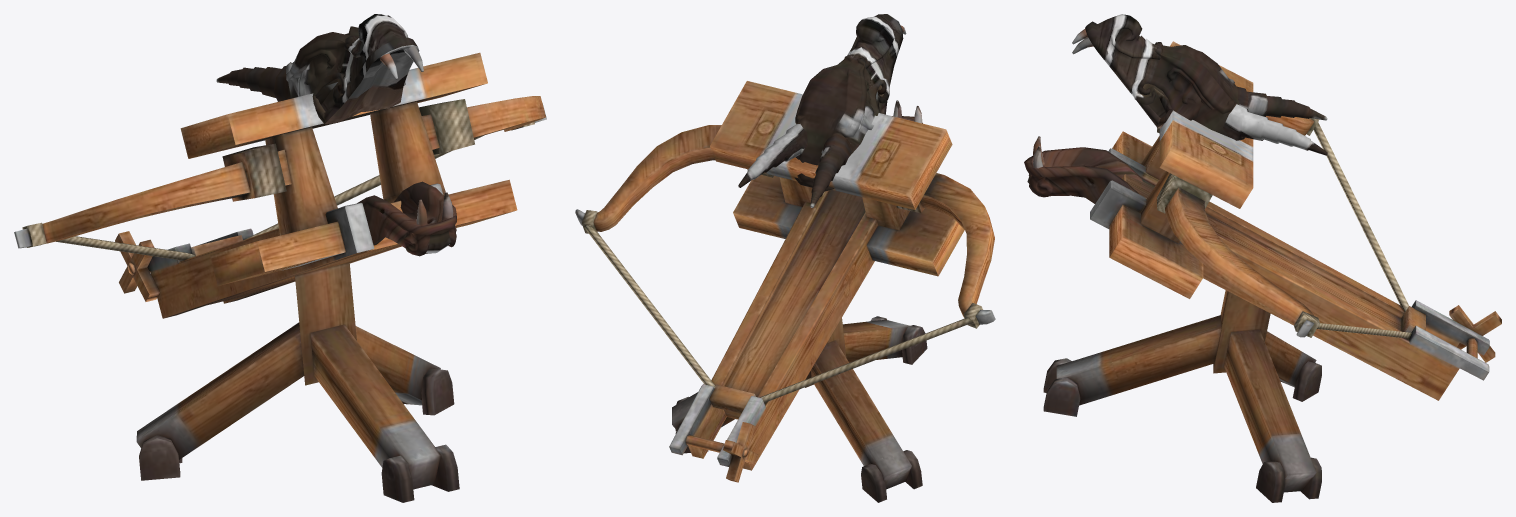
Rendered from weapon-ironweapons.glb.
3 renders of one model, left to right at view 1: azimuth 30°, elevation 25°; view 2: azimuth 150°, elevation 25°; view 3: azimuth 270°, elevation 25°, orthographic. The views are drawn at different scales.
Bounding box in the file's own units: 2.58 × 2.34 × 2.37.
Materials: 2 (2 with a texture image).
